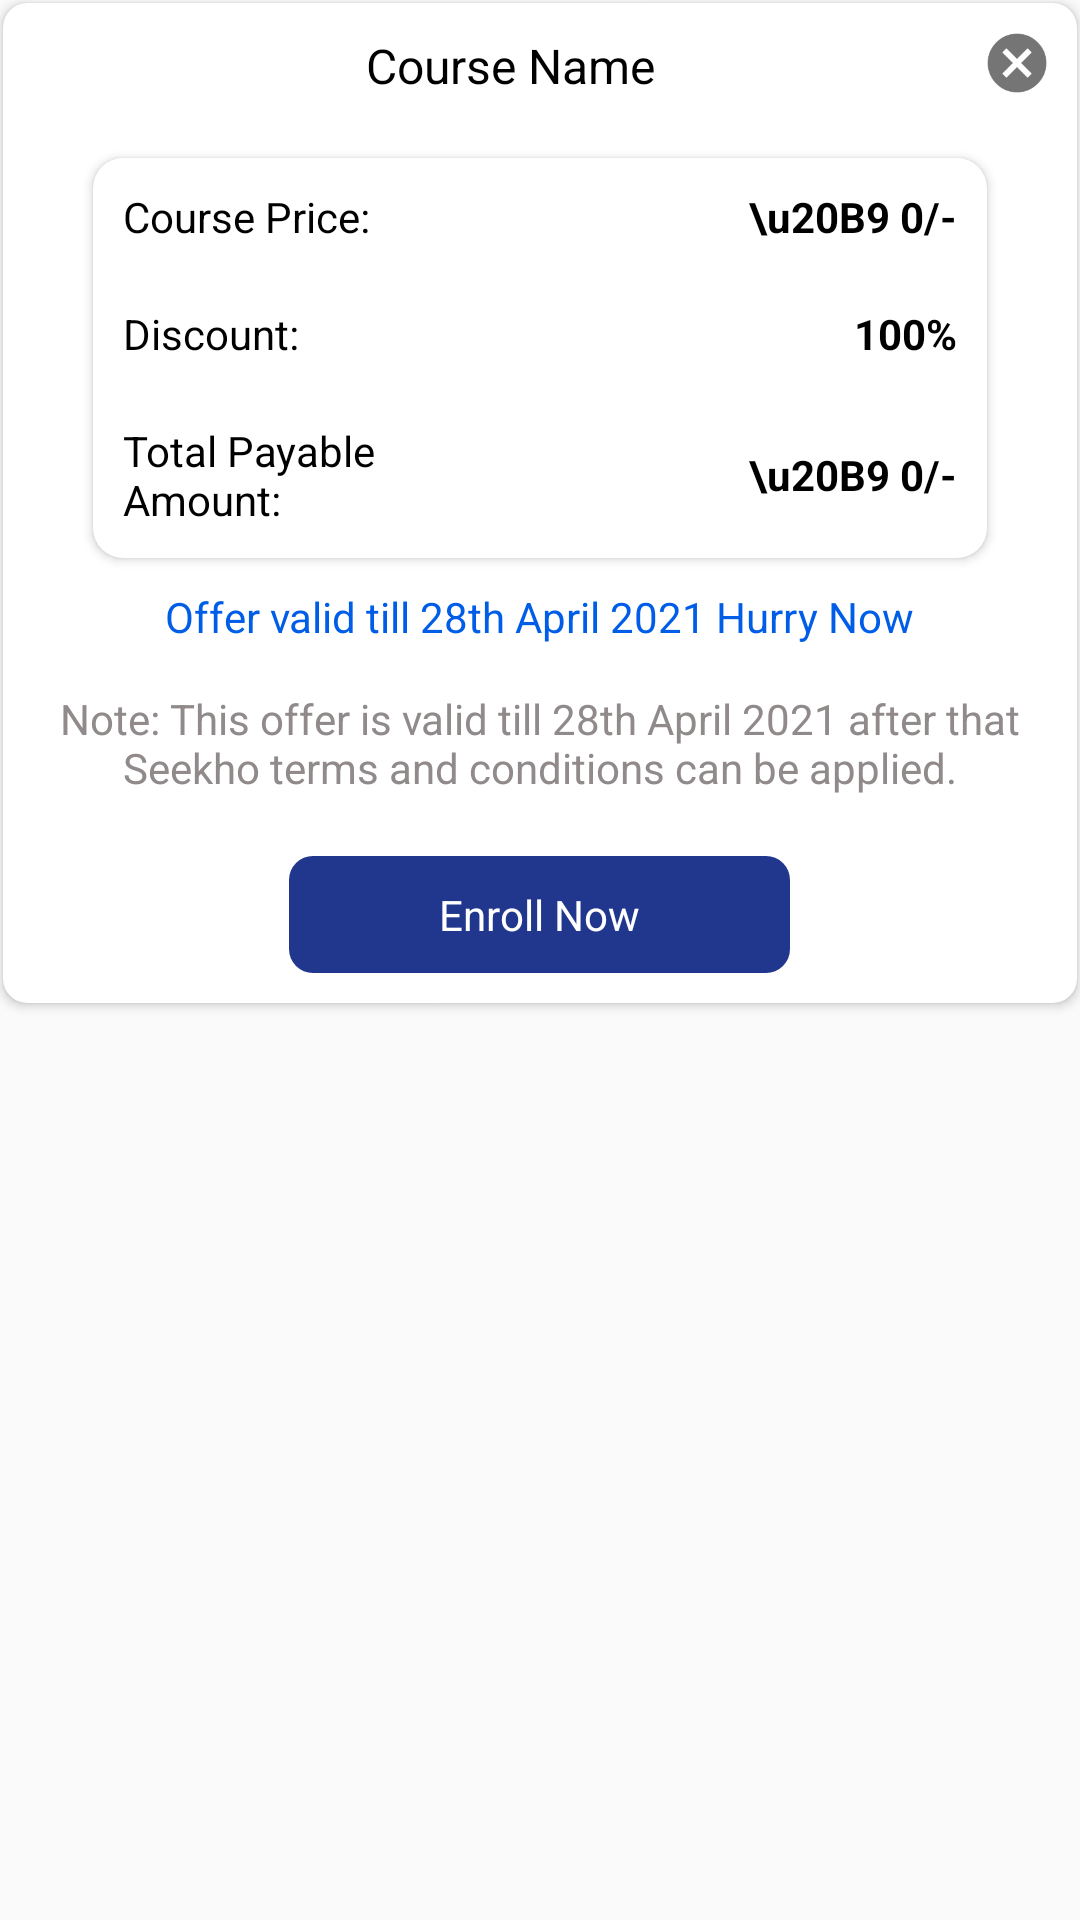

Screen size 1080w x 1920h. Icon name, then its center in pixels as (x,y):
dismiss: (1017,63)
